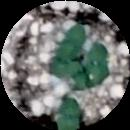Basil: (46, 63, 93, 89), (53, 27, 84, 65), (59, 101, 84, 130), (91, 45, 110, 82)
